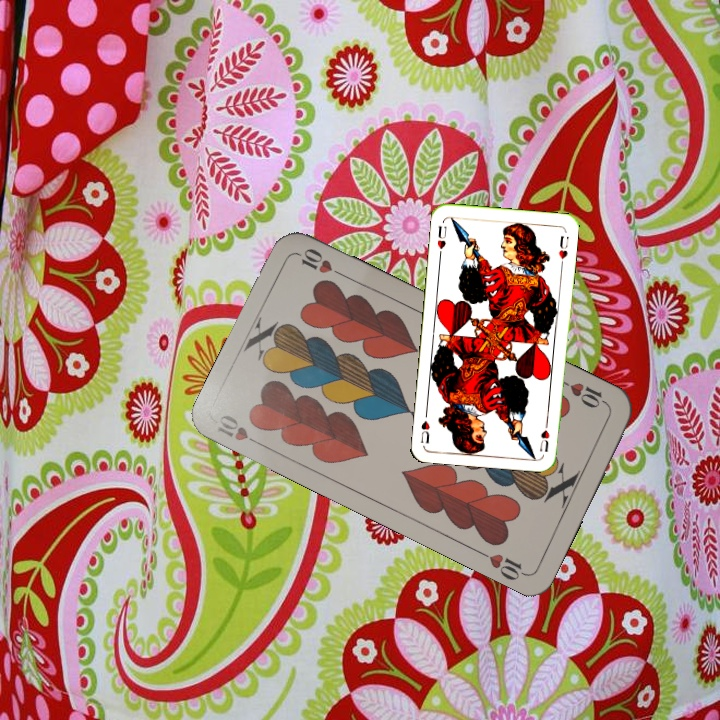H10: (213, 410, 267, 451), (556, 376, 611, 411)
HU: (536, 416, 552, 455), (433, 222, 449, 252)
